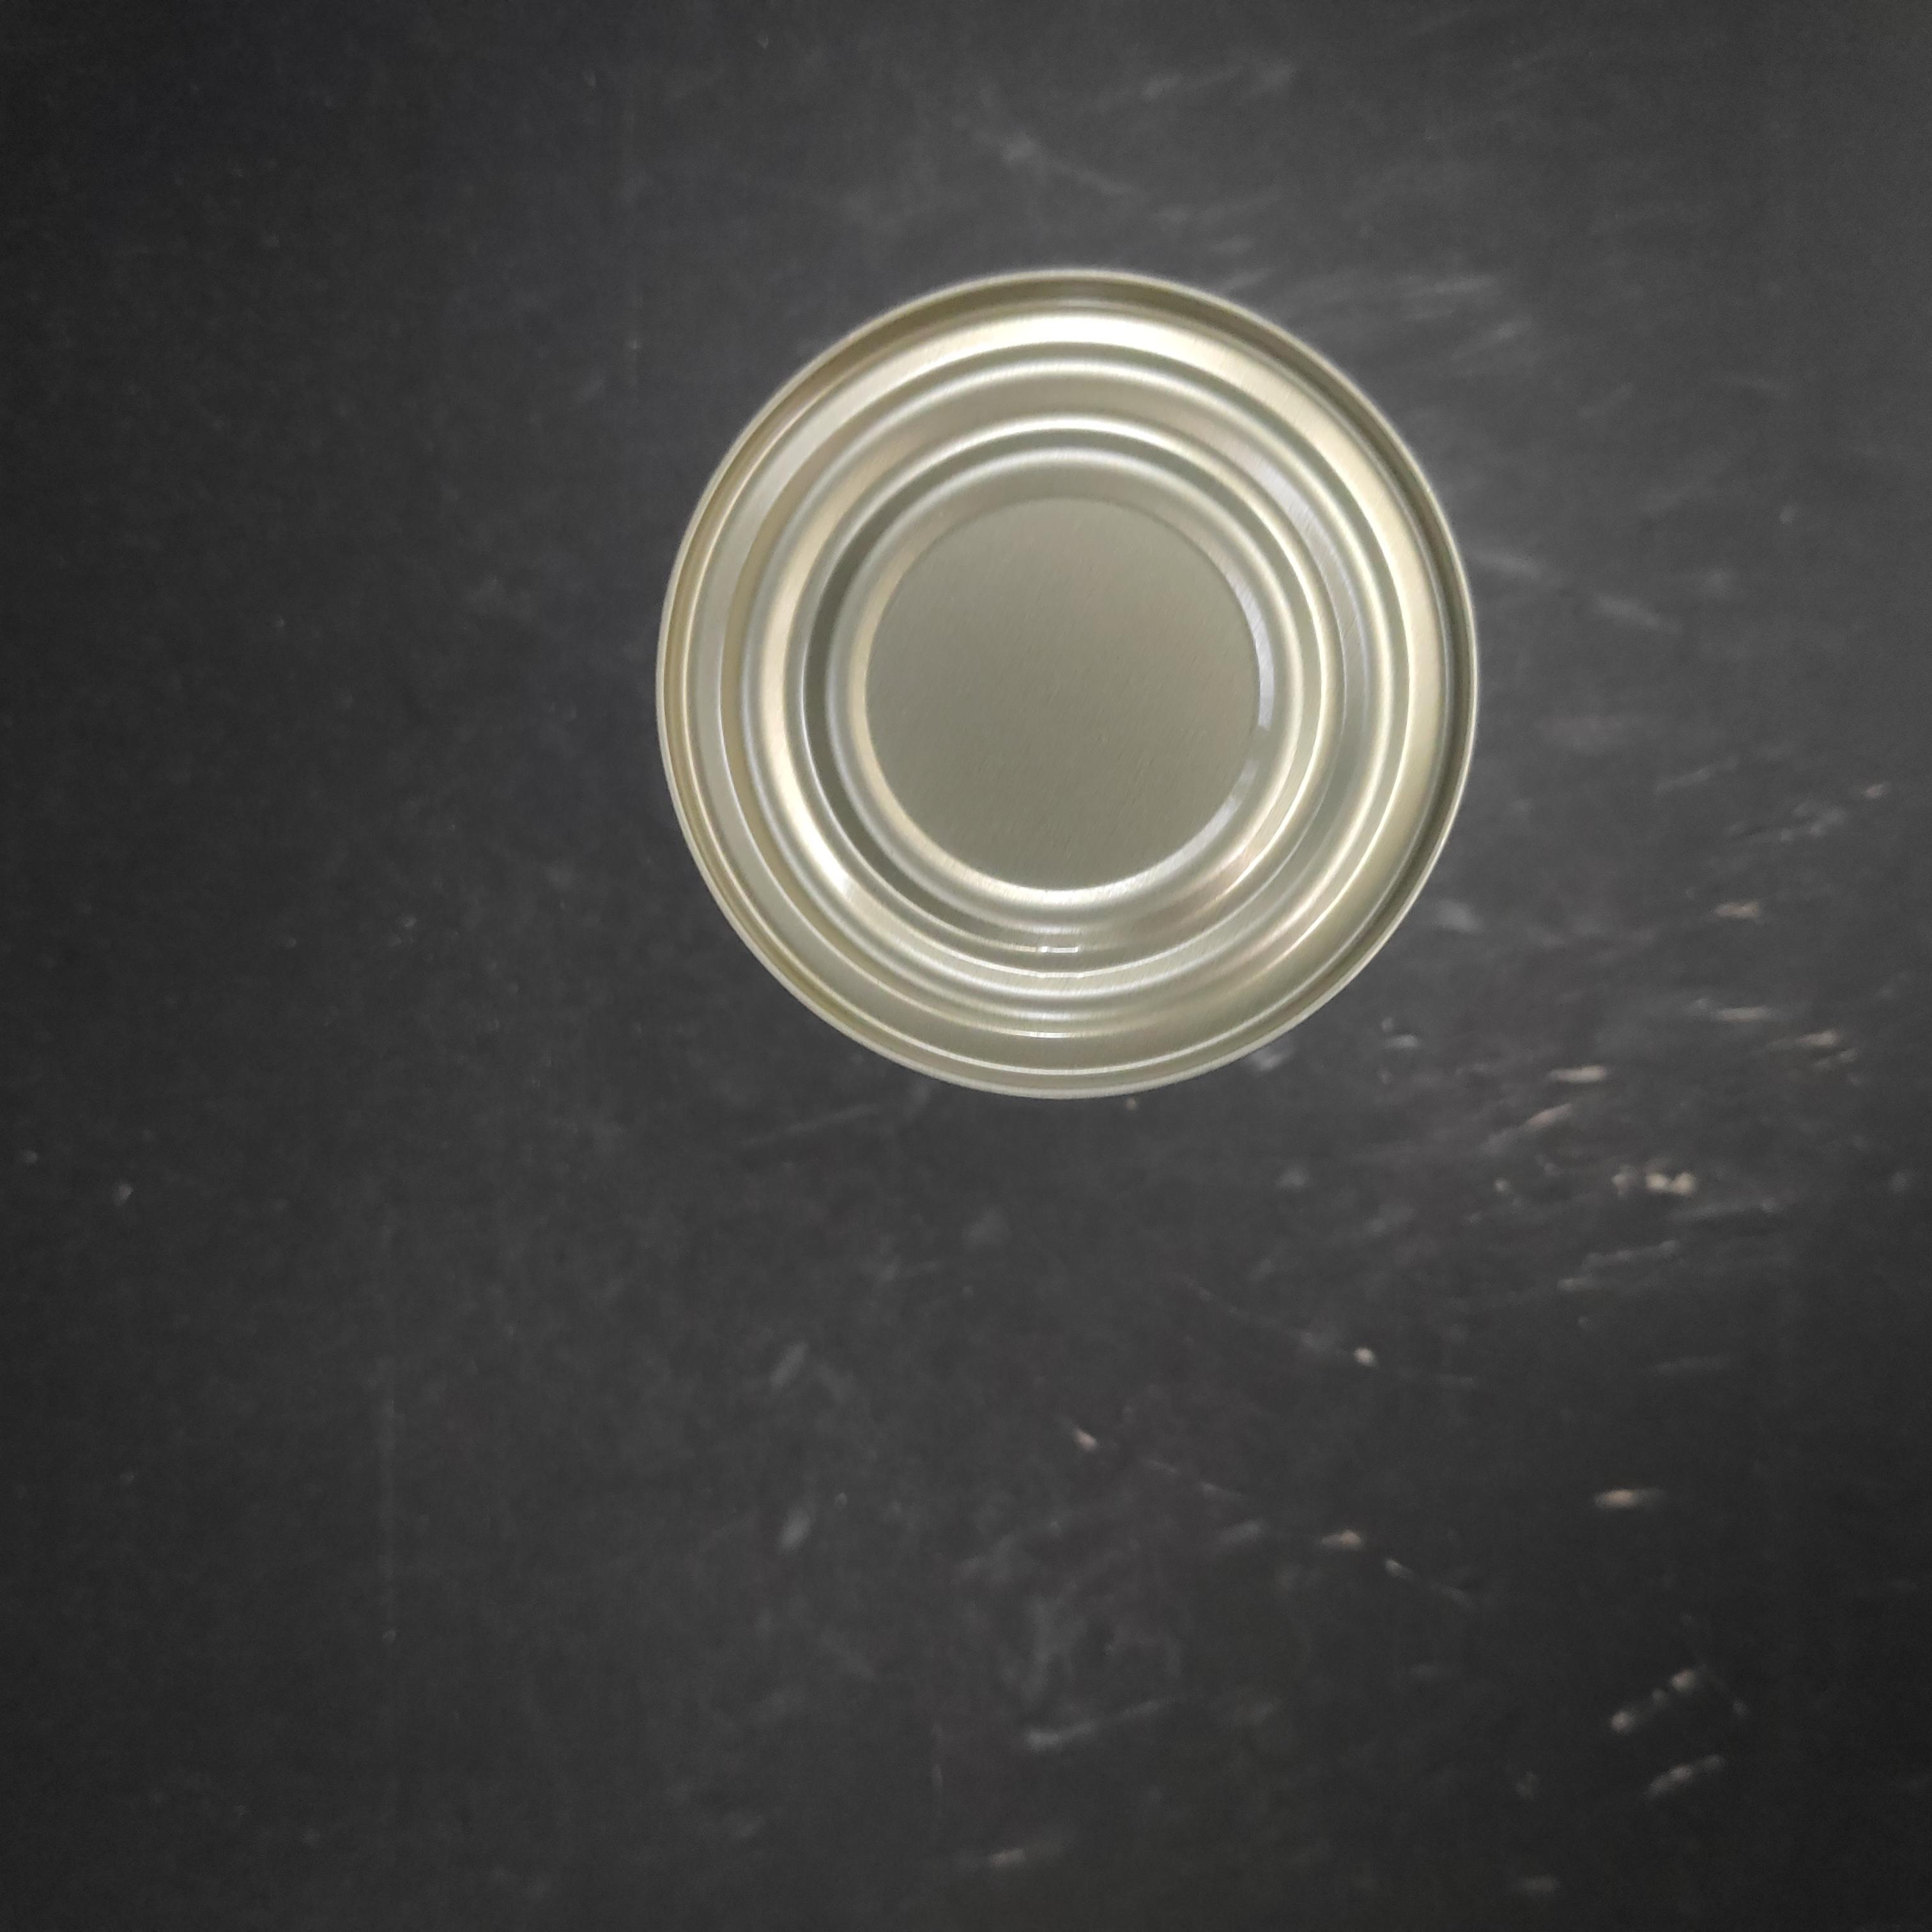No defect: (261, 454, 1107, 1279)
